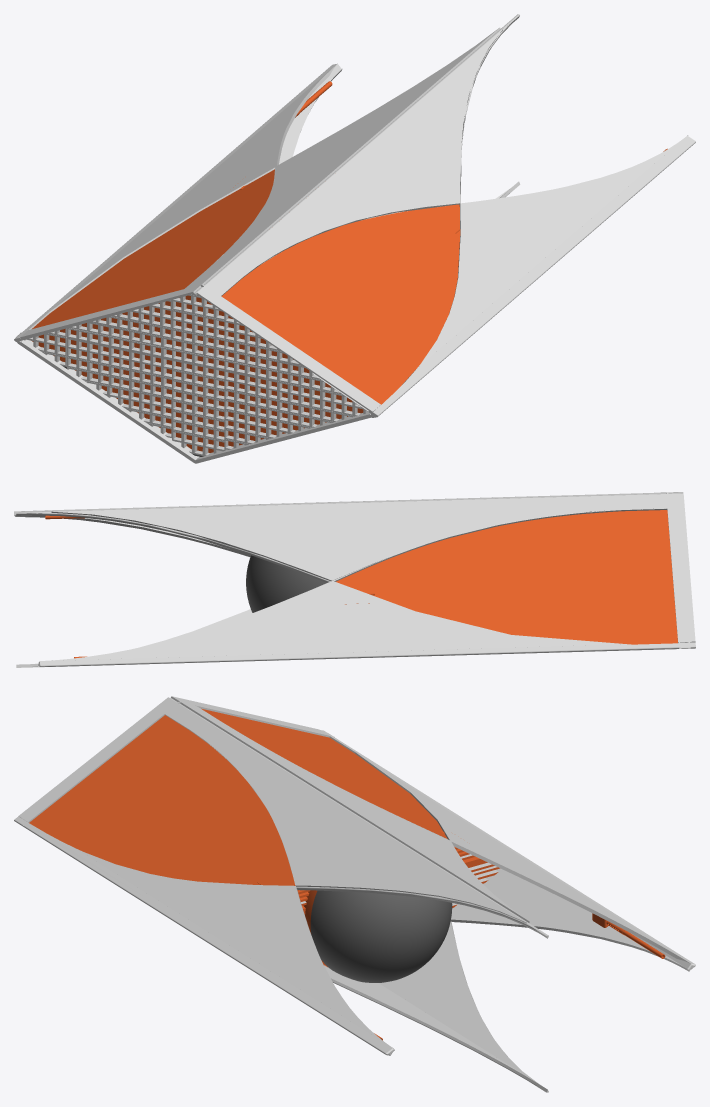
File: shuttle.glb
3 renders of one model, top to bottom at view 1: azimuth 30°, elevation 25°; view 2: azimuth 150°, elevation 25°; view 3: azimuth 270°, elevation 25°, orthographic. The views are drawn at different scales.
Parts seen in each view (by area): view 1: Wing_(1)_(2)001; view 2: Wing_(1)_(2)001; view 3: Wing_(1)_(2)001.
Part boxes in pixels (<box>): Wing_(1)_(2)001: <box>14,14,695,463</box>; Wing_(1)_(2)001: <box>14,492,695,667</box>; Wing_(1)_(2)001: <box>14,696,695,1092</box>.
Bounding box in the file's own units: 2.97 × 0.6835 × 2.66.
